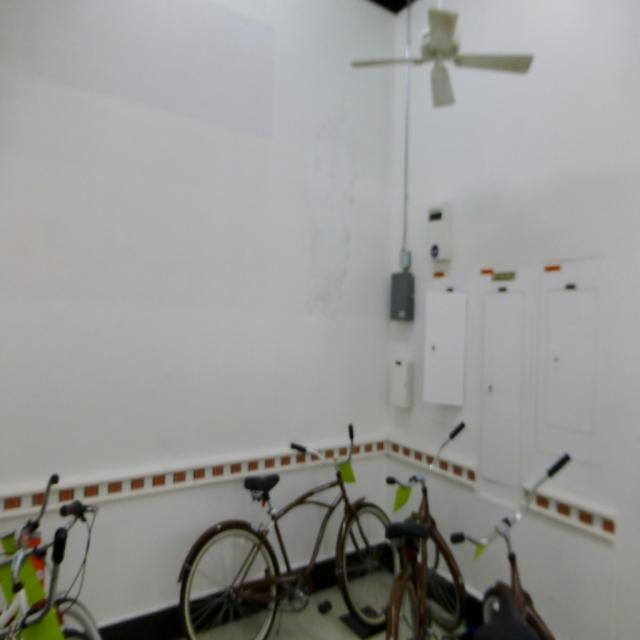fan_off: (349, 7, 519, 112)
